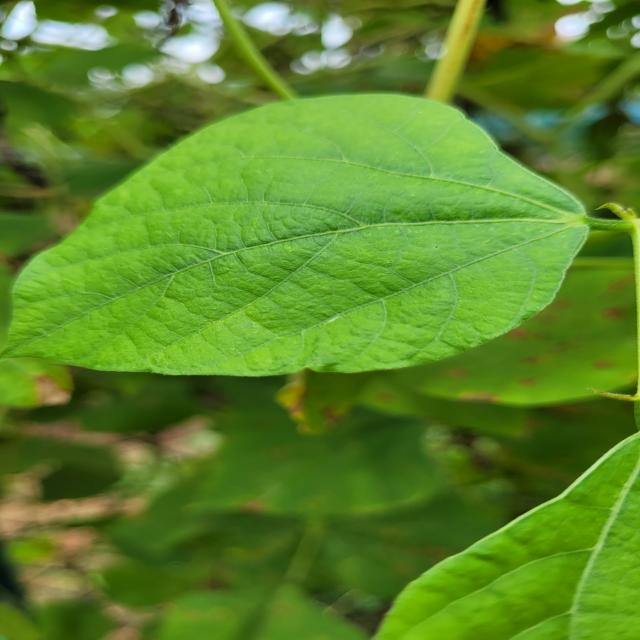Dolicos bean_healthy: (0, 91, 596, 374), (367, 432, 640, 640)
